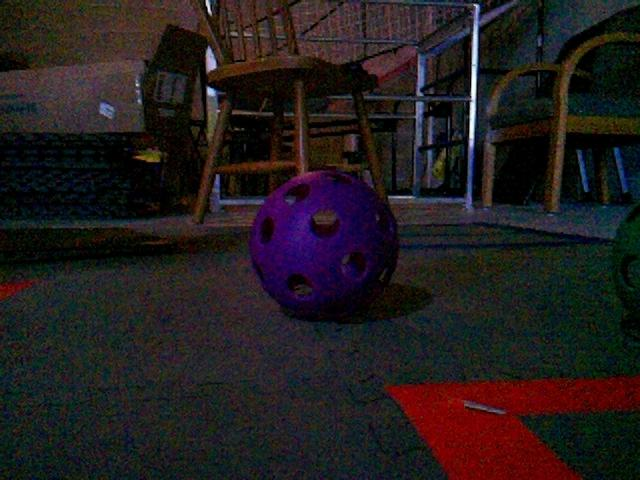Green: (612, 198, 639, 315)
Purple: (248, 172, 399, 320)
